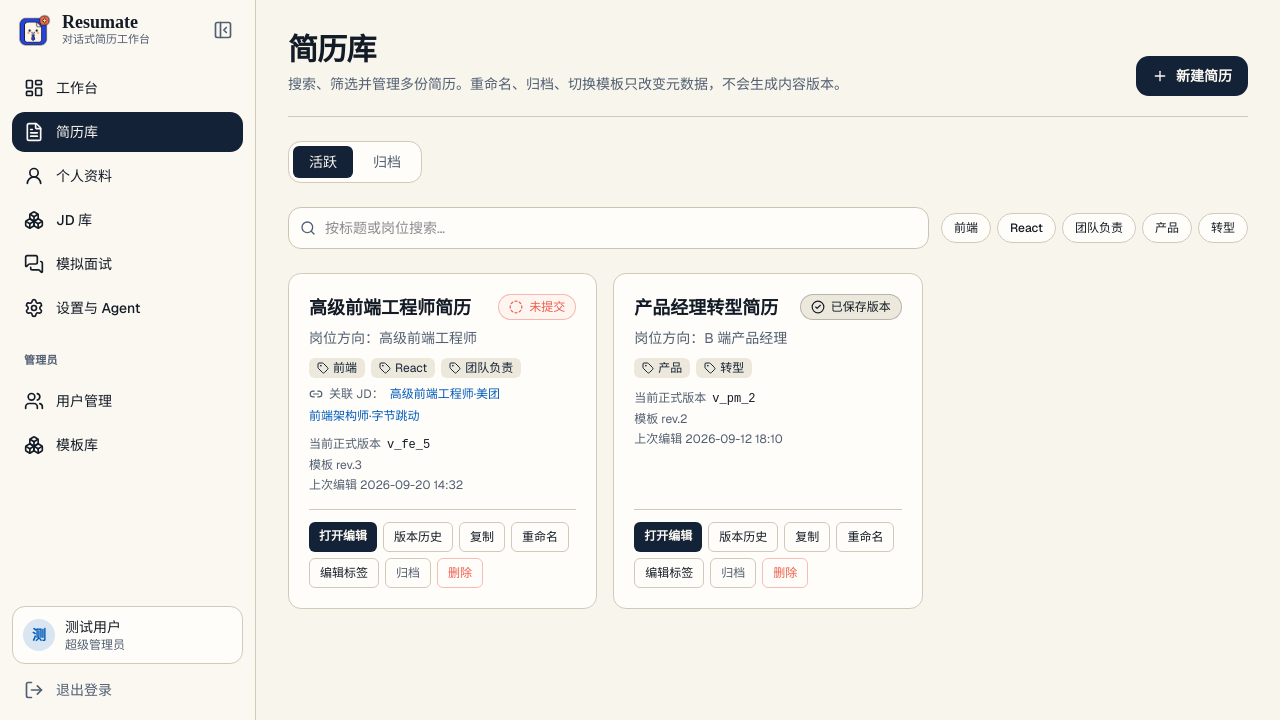
简历库卡片：重命名入口 › 点「重命名」打开小弹窗，输入后 PATCH 标题并更新卡片
Click the button "重命名" below "高级前端工程师简历": [540, 537] box x1=511 y1=522 x2=569 y2=552
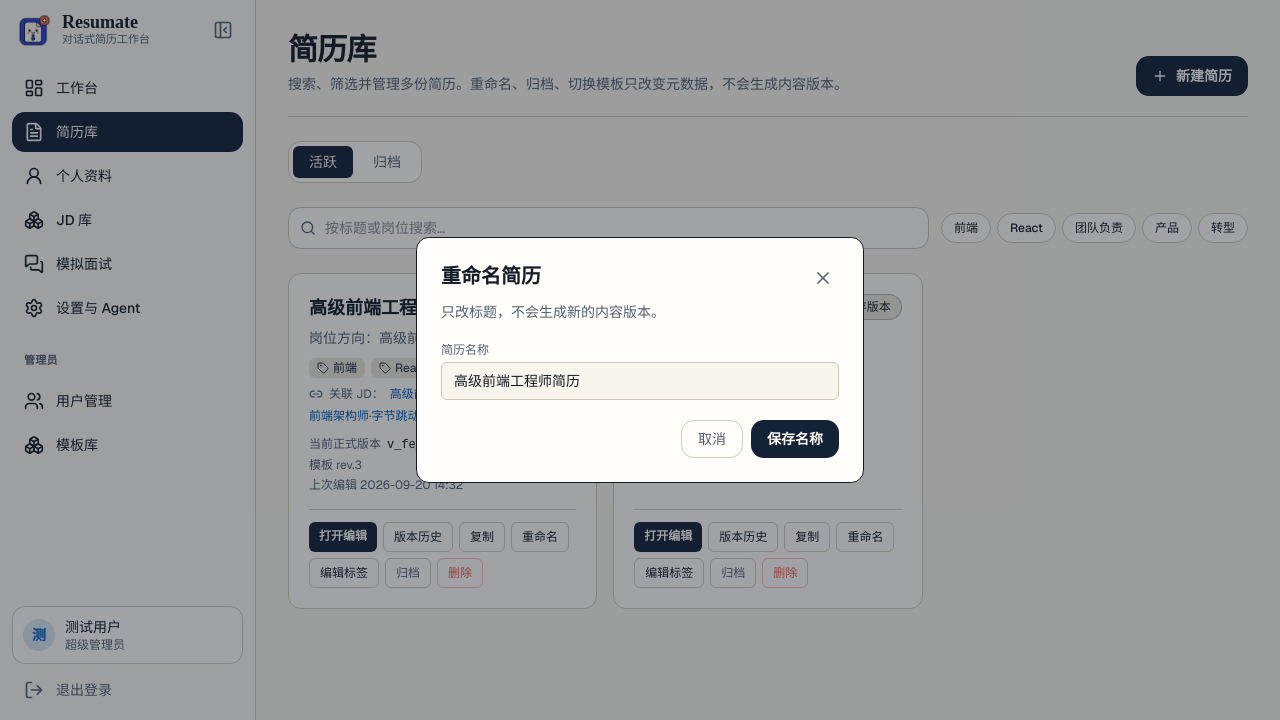
Expected: the field labelled "简历名称" holds "高级前端工程师简历"
Replace the text in the field labelled "简历名称" with "2026 主打简历": [640, 381] box x1=441 y1=362 x2=839 y2=400
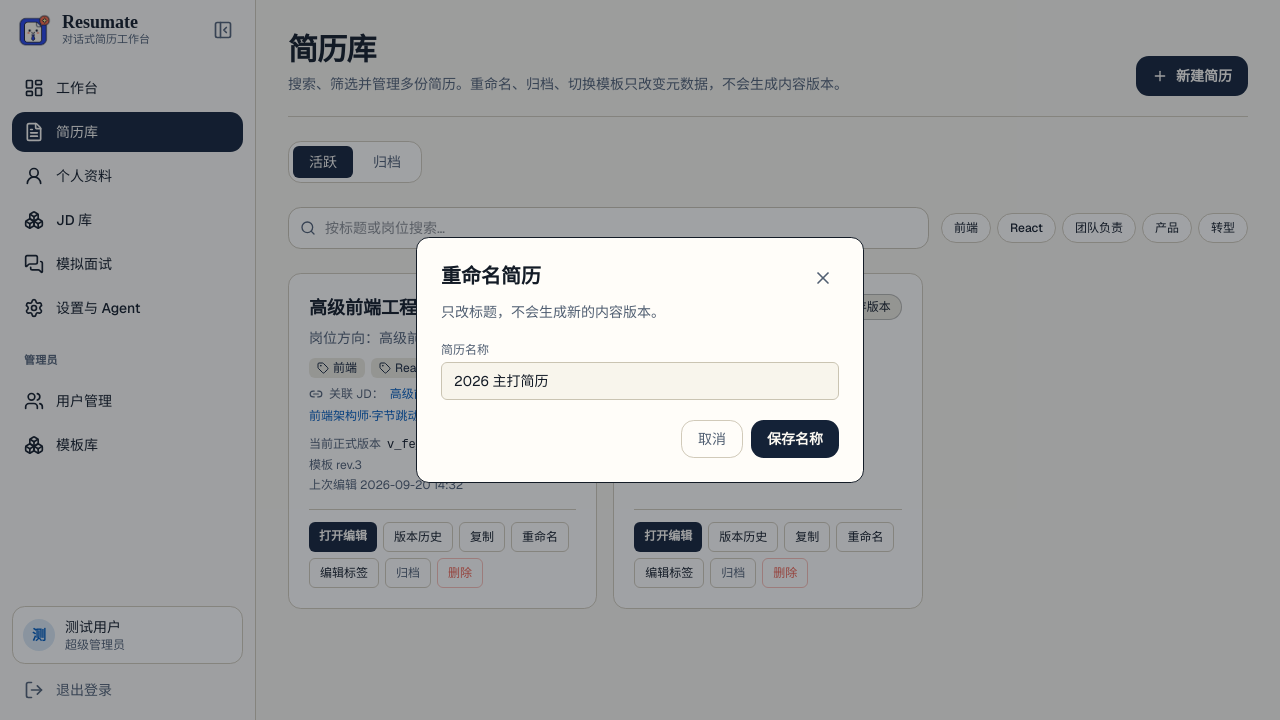
Click the button "保存名称": [795, 439] box x1=751 y1=420 x2=839 y2=458
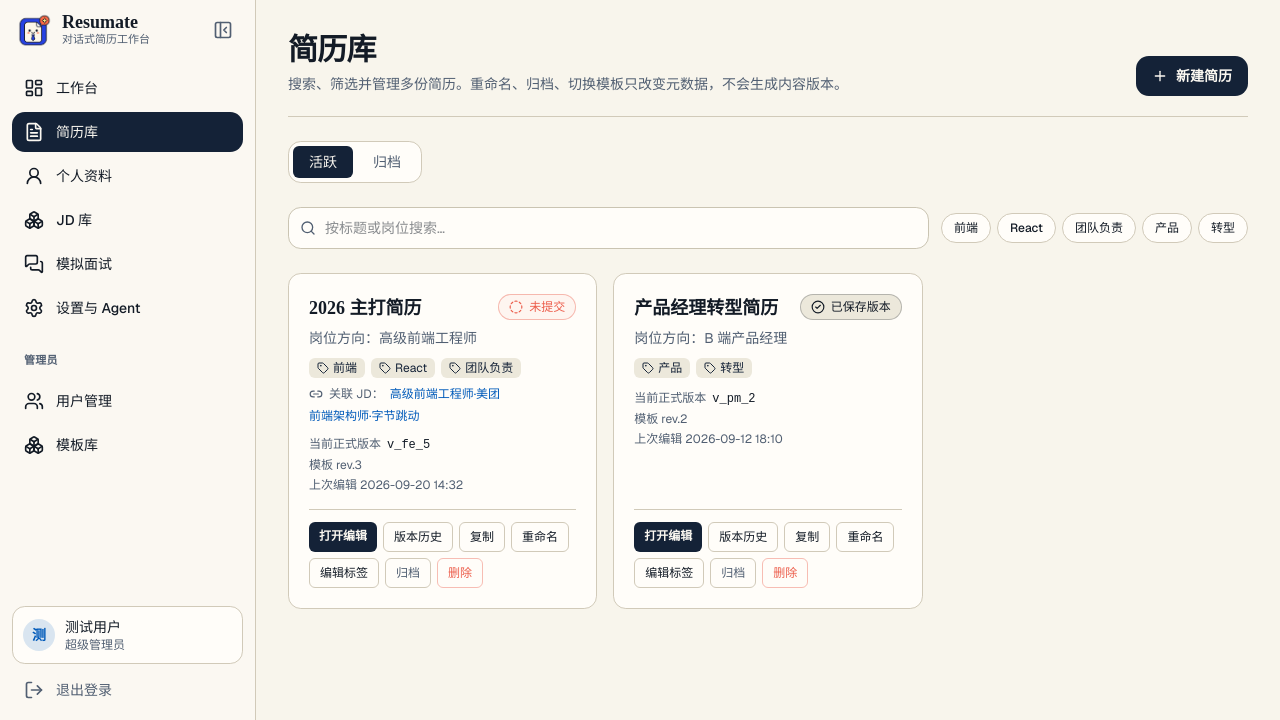
Expected: the link "2026 主打简历" is shown, x1=309 y1=298 x2=422 y2=318
